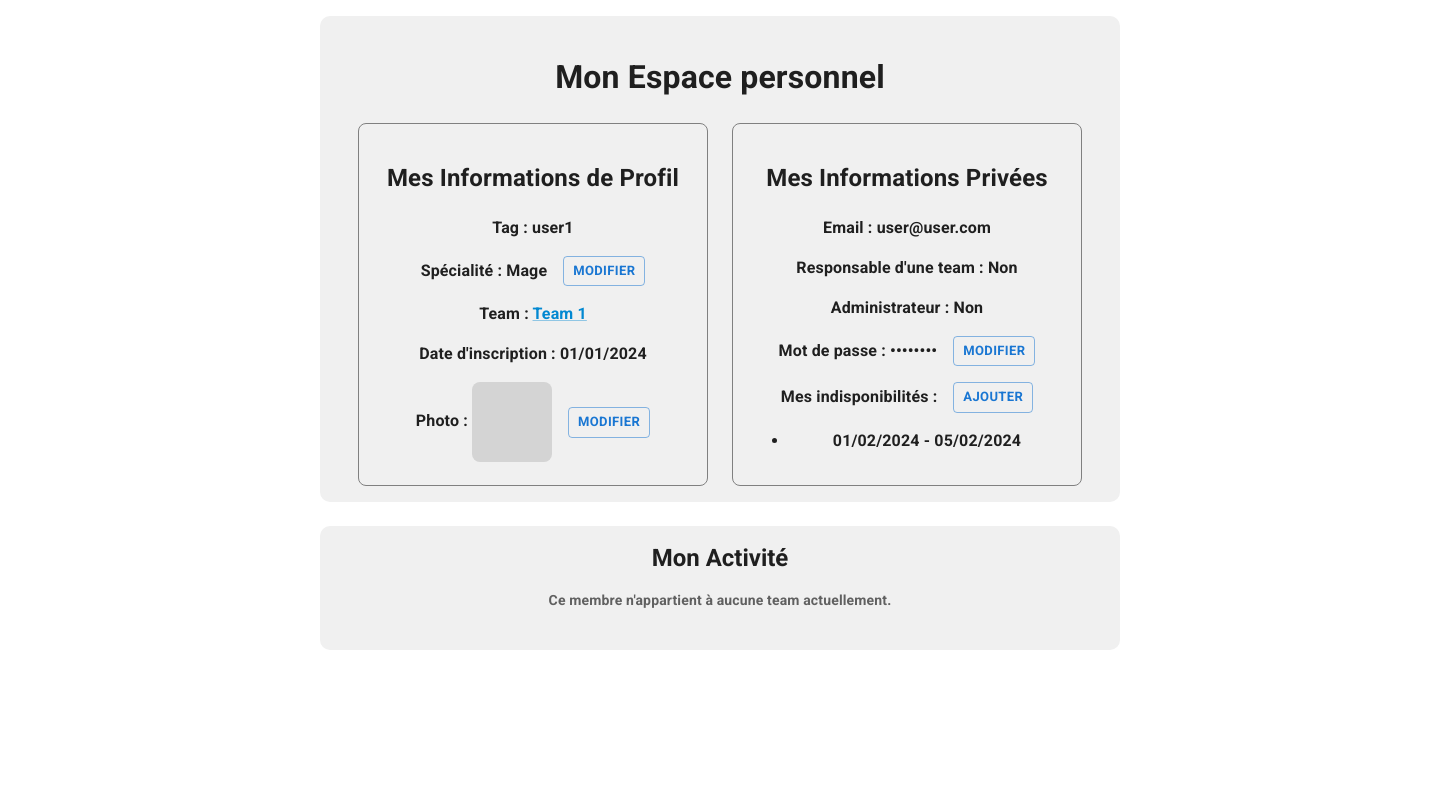
Test: ProfilePage › opens password modal when button is clicked
The image size is (1440, 810).
Expected: the text "user@user.com" is shown, 877,218 -> 991,237
Click the button "Modifier" next to "Mot de passe :" at (994, 351), box 953,336 -> 1035,366
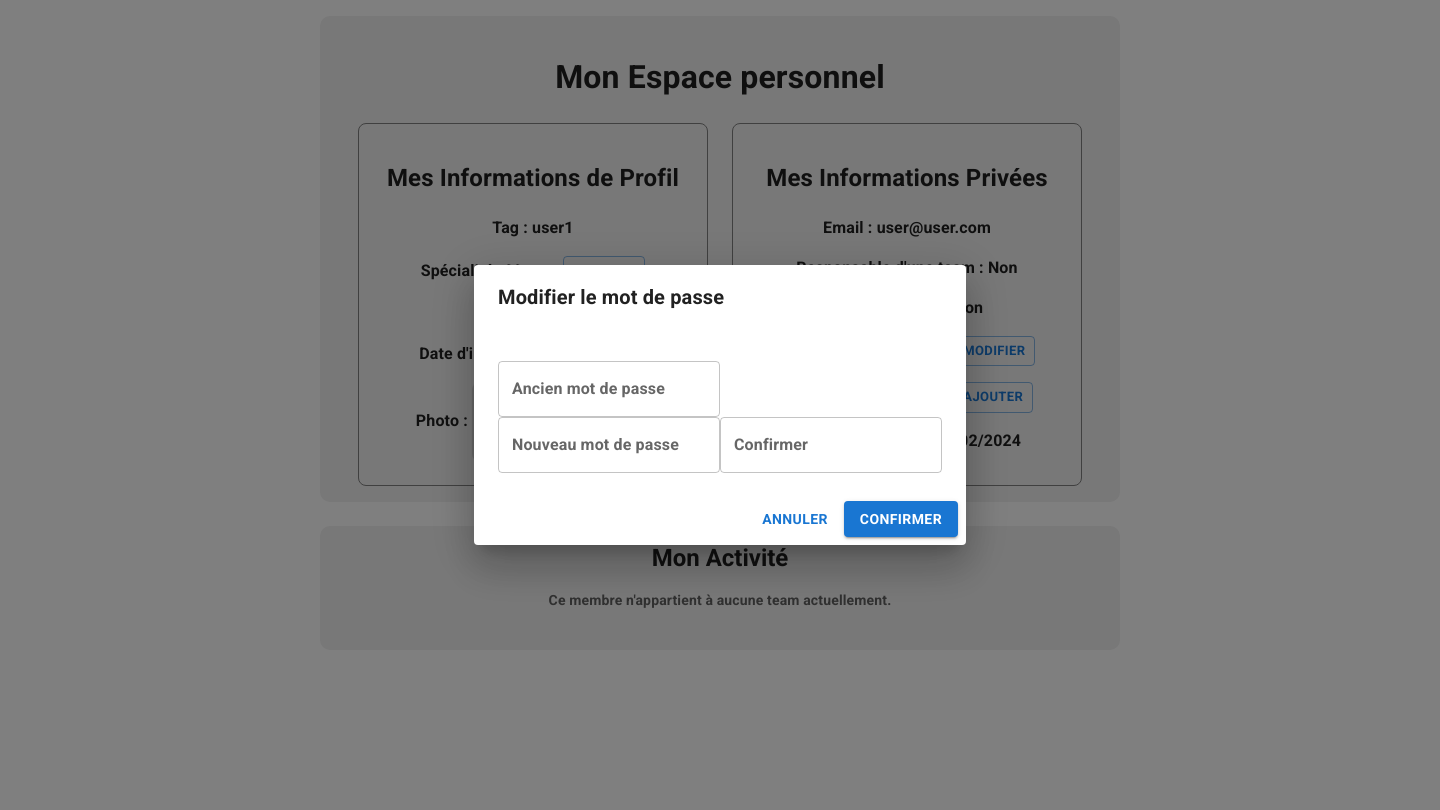
Expected: the heading "Modifier le mot de passe" is shown, 498,285 -> 724,309
